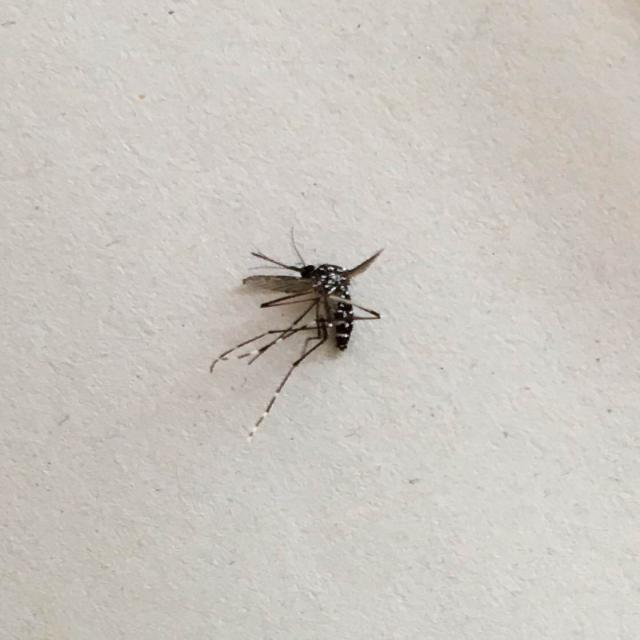albopictus: (207, 226, 397, 443)
